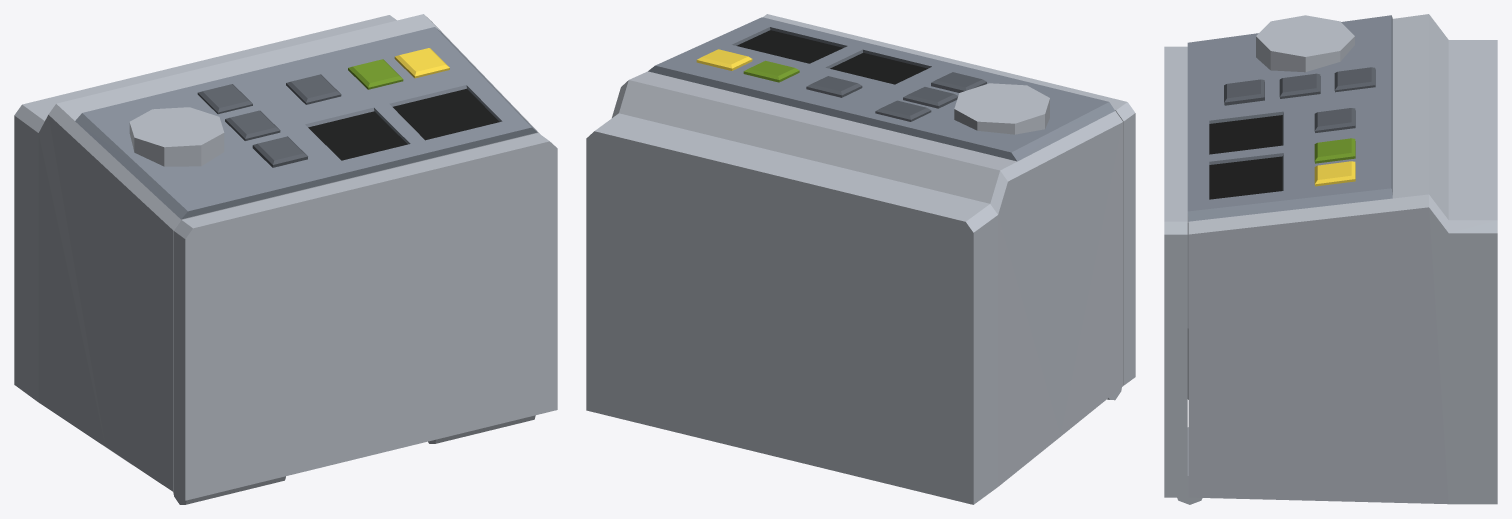
File: machine_centrifuge.obj
The picture shows the model from 3 angles, left to right: view 1: azimuth 30°, elevation 25°; view 2: azimuth 150°, elevation 25°; view 3: azimuth 270°, elevation 25°; orthographic projection.
Parts seen in each view (by area): view 1: Cube.449, Cube.448, Cube.451; view 2: Cube.448, Cube.449, Cube.451; view 3: Cube.448, Cube.449, Cube.451.
Boxes of the visible parts, x1,y1,x2,y2 form: Cube.449: (173,133,557,500); Cube.448: (14,14,539,504); Cube.451: (129,107,224,166); Cube.448: (586,17,1123,504); Cube.449: (763,14,1135,385); Cube.451: (954,83,1049,134); Cube.448: (1177,14,1497,504); Cube.449: (1164,46,1187,497); Cube.451: (1256,15,1354,72).
Bounding box in the file's own units: 0.2852 × 0.2293 × 0.2136.
2 materials, 2 textured.
